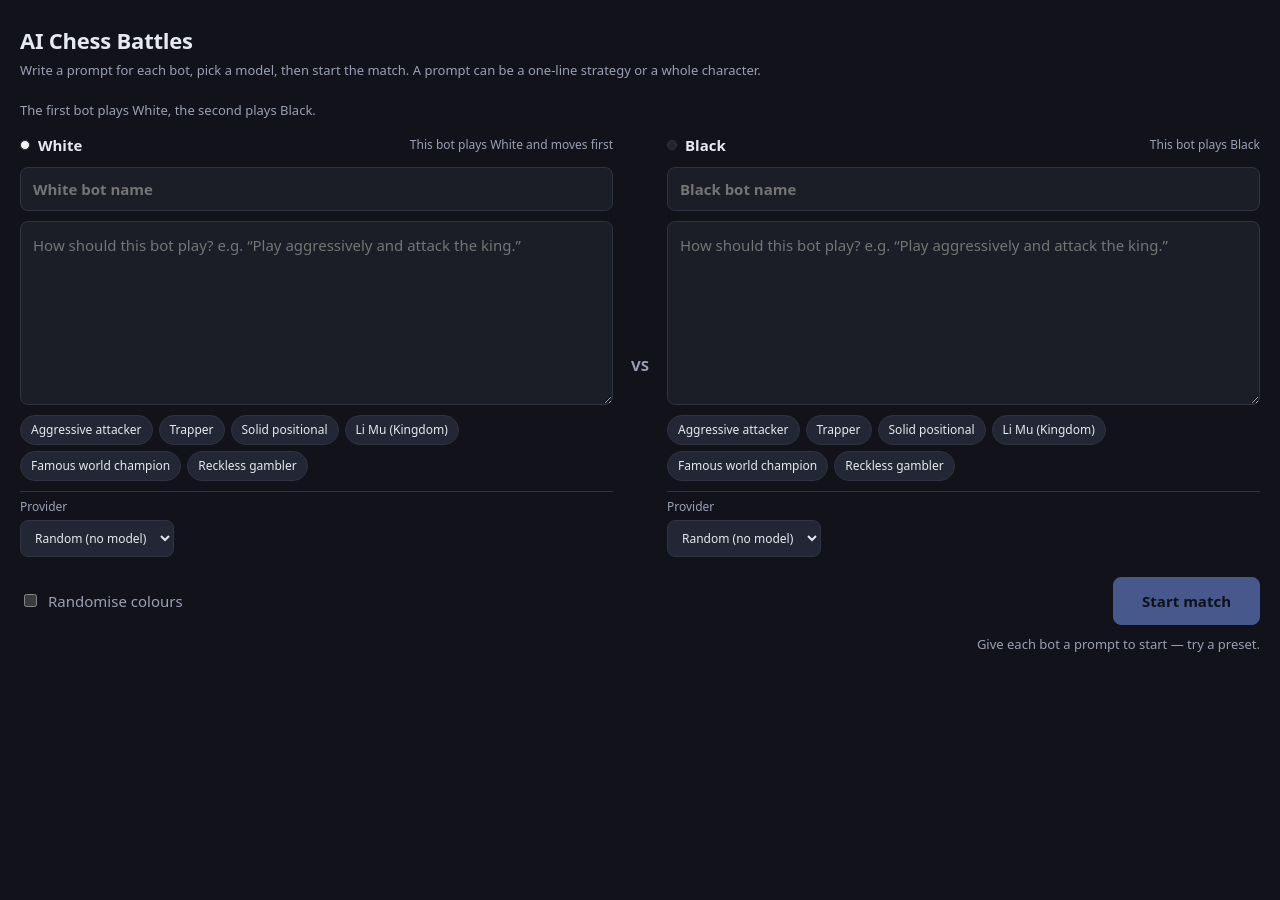
Test: SetupScreen › gates Start until both bots have a prompt
The image size is (1280, 900).
Expected: the button "Start match" is disabled, x1=1113 y1=576 x2=1260 y2=625
Type "attack" into the text box with placeholder "How should this bot play" below "This bot plays White and moves first" at {"x": 316, "y": 313}, box x1=20 y1=221 x2=613 y2=404
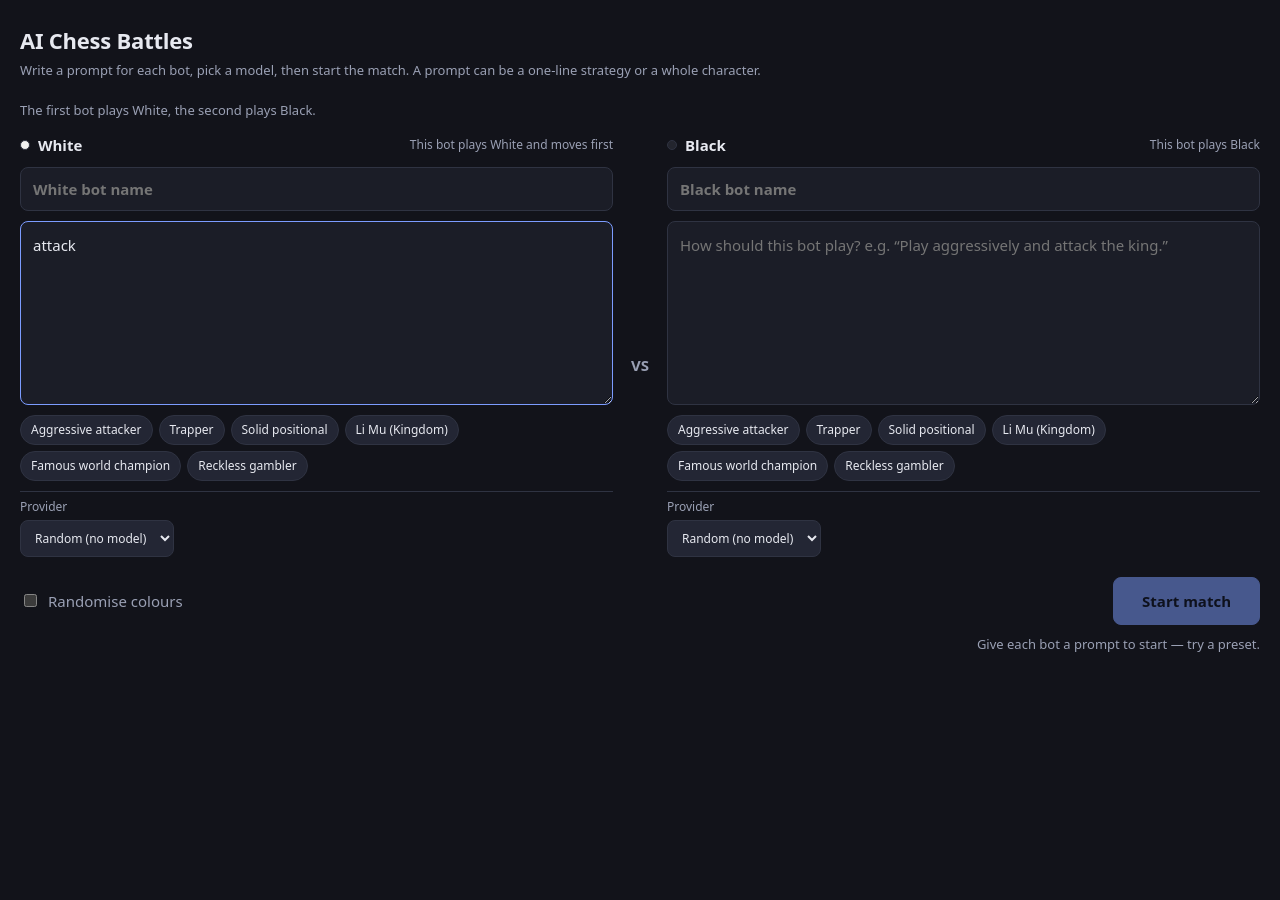
Expected: the button "Start match" is disabled, x1=1113 y1=576 x2=1260 y2=625
Type "defend" into the text box with placeholder "How should this bot play" at {"x": 964, "y": 313}, box x1=667 y1=221 x2=1260 y2=404
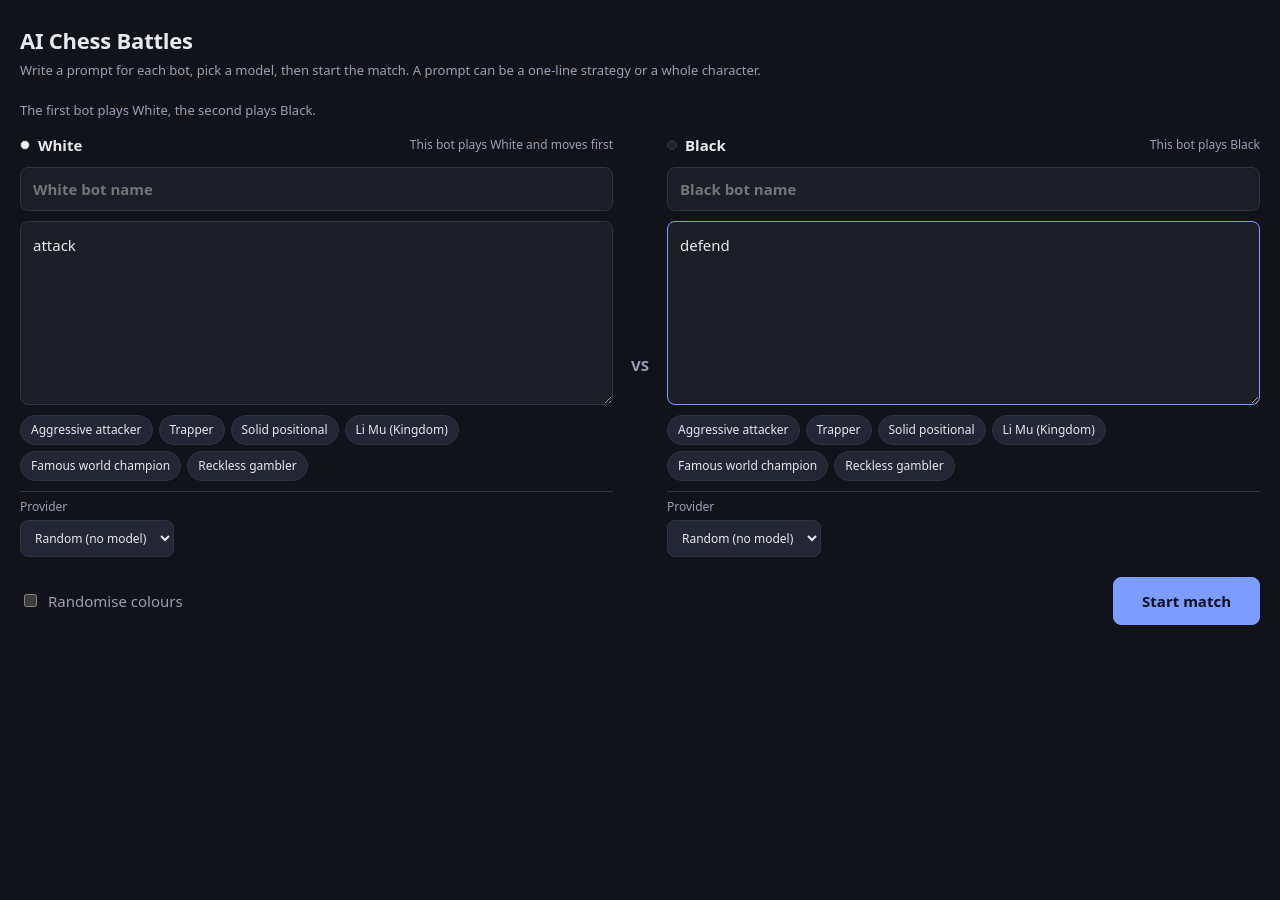
Expected: the button "Start match" is enabled, x1=1113 y1=576 x2=1260 y2=625
